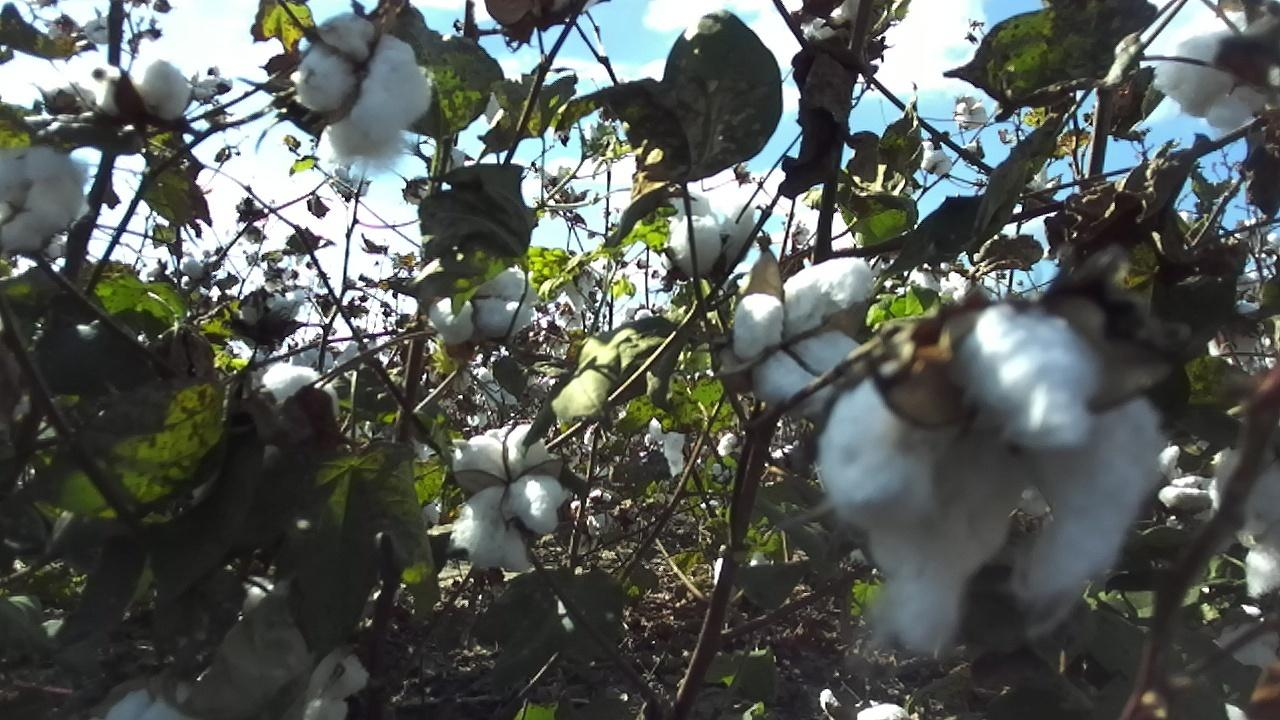cotton_ready: (816, 299, 1167, 660), (730, 252, 879, 418), (295, 13, 432, 179), (449, 417, 567, 573), (1154, 28, 1280, 130), (1209, 440, 1280, 599), (0, 145, 92, 251), (427, 264, 539, 347), (650, 193, 759, 278), (79, 61, 199, 122), (300, 644, 374, 720), (259, 364, 343, 427), (99, 677, 204, 720), (802, 0, 912, 40)
